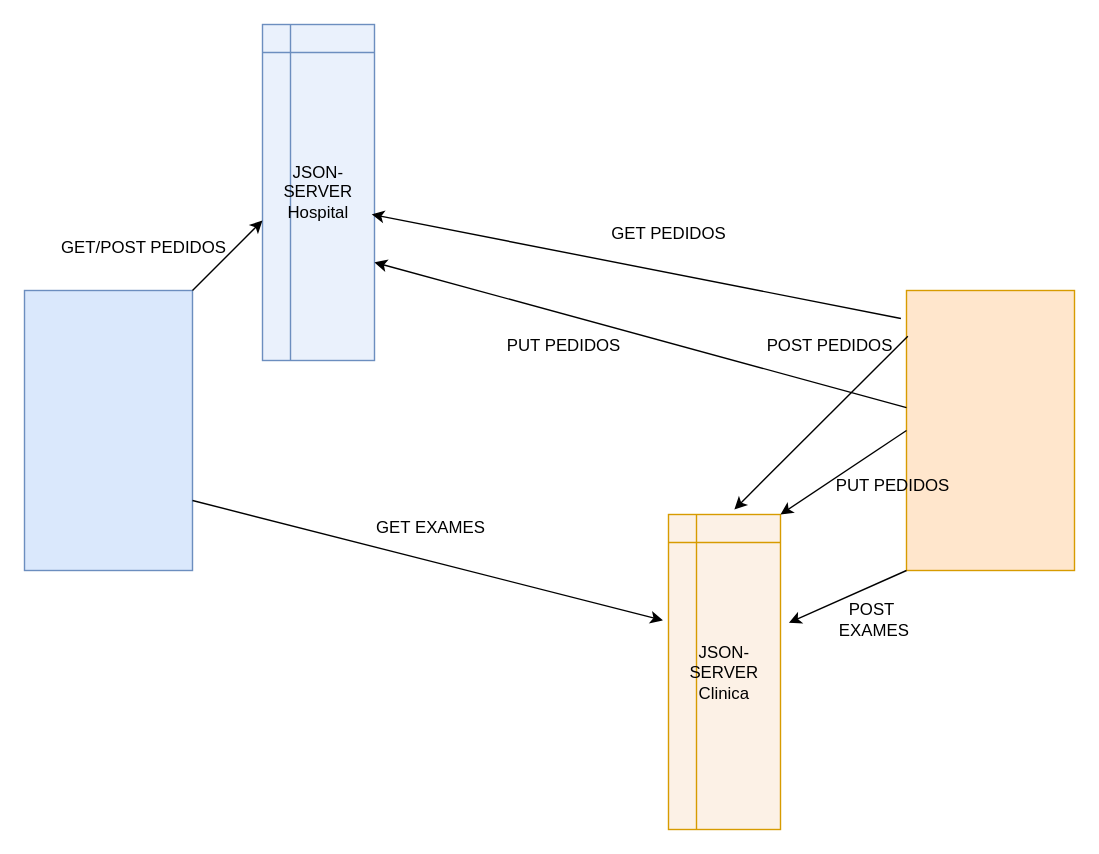
Image size: 1099x854. Some labels were removed from this diagram. Here are the shapes that lost their labels. From the top down, the box of each, then its label:
(23, 289, 192, 570): Hospital
(905, 289, 1074, 570): Clinica
